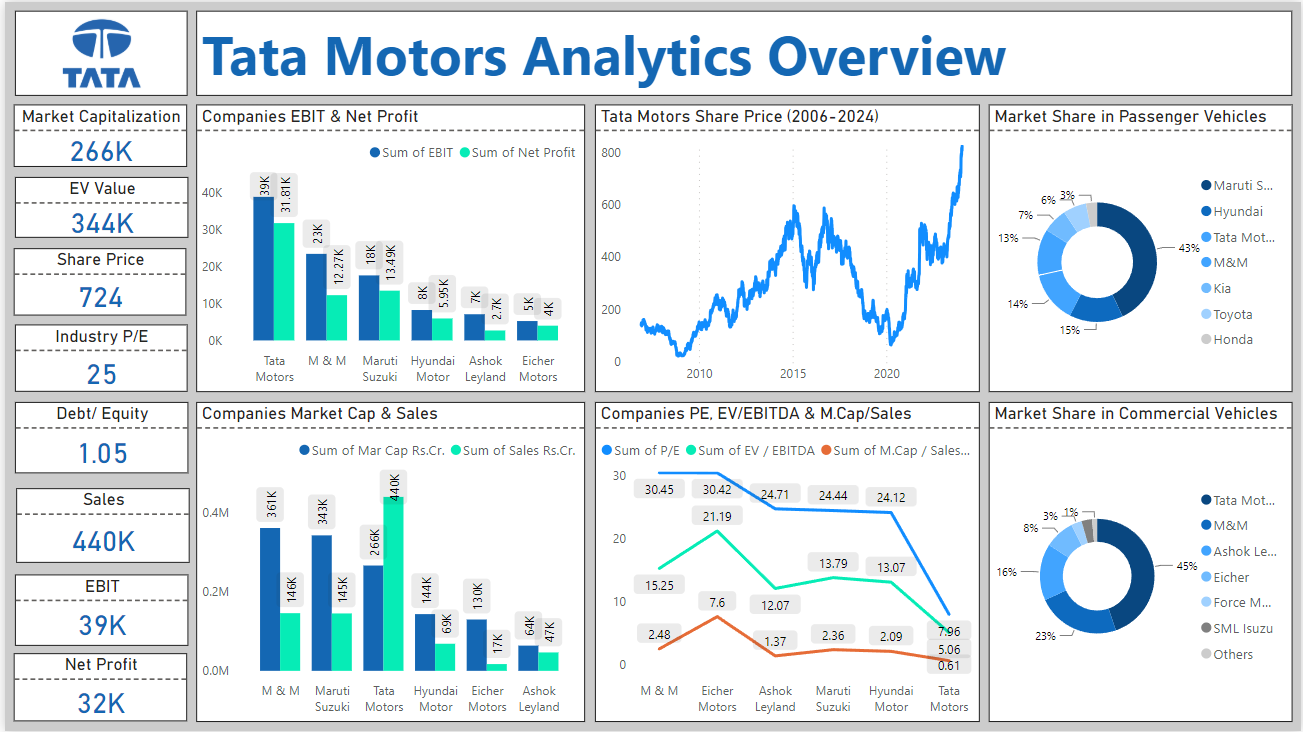

The page's visual inventory and layout, read from the dashboard file:
{"tool":"powerbi","page":{"name":"Page 1","canvas":[1280,720],"ordinal":0},"visuals":[{"type":"clusteredColumnChart","title":"Companies Market Cap & Sales","fields":{"Category":["Sheet1.Company"],"Y":["Sum(Sheet1.Mar Cap Rs.Cr.)","Sum(Sheet1.Sales Rs.Cr.)"]},"box":[188.8,395,383.8,316.2],"z":0},{"type":"clusteredColumnChart","title":"Companies EBIT & Net Profit","fields":{"Category":["Sheet1.Company"],"Y":["Sum(Sheet1.EBIT)","Sum(Sheet1.Net Profit)"]},"box":[188.8,101.2,383.8,283.8],"z":1000},{"type":"card","title":"Share Price","fields":{"Values":["Sum(Sheet 2.Share Price)"]},"box":[8.8,243.8,170,66.2],"z":2000},{"type":"card","title":"Net Profit","fields":{"Values":["Sum(Sheet 2.Net Profit)"]},"box":[8.8,643.8,171.2,67.5],"z":3000},{"type":"card","title":"Sales","fields":{"Values":["Sum(Sheet 2.Sales Rs.Cr.)"]},"box":[11.2,480,171.2,73.8],"z":4000},{"type":"card","title":"EBIT","fields":{"Values":["Sum(Sheet 2.EBIT)"]},"box":[10,565,171.2,70],"z":5000},{"type":"card","title":"Market Capitalization","fields":{"Values":["Sum(Sheet 2.Mar Cap Rs.Cr.)"]},"box":[8.8,101.2,171.2,61.2],"z":6000},{"type":"lineChart","title":"Companies PE, EV/EBITDA & M.Cap/Sales","fields":{"Category":["Sheet1.Company"],"Y":["Sum(Sheet1.P/E)","Sum(Sheet1.EV / EBITDA)","Sum(Sheet1.M.Cap / Sales_1)"]},"box":[582.5,395,380,316.2],"z":7000},{"type":"lineChart","title":"Tata Motors Share Price (2006-2024)","fields":{"Category":["Stock.Date.Variation.Date Hierarchy.Year","Stock.Date.Variation.Date Hierarchy.Quarter","Stock.Date.Variation.Date Hierarchy.Month","Stock.Date.Variation.Date Hierarchy.Day"],"Y":["Sum(Stock.Adj Close)"]},"box":[582.5,101.2,380,283.8],"z":8000},{"type":"donutChart","title":"Market Share in Passenger Vehicles","fields":{"Category":["Sheet4.Company"],"Y":["Sum(Sheet4.% of Share)"]},"box":[971.2,101.2,300,283.8],"z":9000},{"type":"image","box":[10,8.8,170,83.8],"z":10000},{"type":"textbox","box":[188.8,8.8,1082.5,83.8],"z":11000},{"type":"donutChart","title":"Market Share in Commercial Vehicles","fields":{"Category":["Sheet5.Company"],"Y":["Sum(Sheet5.% of Share)"]},"box":[971.2,395,300,316.2],"z":12000},{"type":"card","title":"Debt/ Equity","fields":{"Values":["Sum(Sheet 2.Debt / Eq)"]},"box":[10,395,171.2,70],"z":13000},{"type":"card","title":"EV Value","fields":{"Values":["Sum(Sheet 2.Enterprise Value)"]},"box":[10,172.5,171.2,60],"z":14000},{"type":"card","title":"Industry P/E","fields":{"Values":["Median(Sheet1.P/E)"]},"box":[10,318.8,170,66.2],"z":15000}]}

Visuals, with their boxes in screenshot pixels (x1, y1, x2, y2), scaled from the page's 1280x720 canvas onto the 1303x732 screenshot:
"Companies Market Cap & Sales" clusteredColumnChart: (192,402,583,723)
"Companies EBIT & Net Profit" clusteredColumnChart: (192,103,583,391)
"Share Price" card: (9,248,182,315)
"Net Profit" card: (9,655,183,723)
"Sales" card: (11,488,186,563)
"EBIT" card: (10,574,184,646)
"Market Capitalization" card: (9,103,183,165)
"Companies PE, EV/EBITDA & M.Cap/Sales" lineChart: (593,402,980,723)
"Tata Motors Share Price (2006-2024)" lineChart: (593,103,980,391)
"Market Share in Passenger Vehicles" donutChart: (989,103,1294,391)
image: (10,9,183,94)
textbox: (192,9,1294,94)
"Market Share in Commercial Vehicles" donutChart: (989,402,1294,723)
"Debt/ Equity" card: (10,402,184,473)
"EV Value" card: (10,175,184,236)
"Industry P/E" card: (10,324,183,391)
